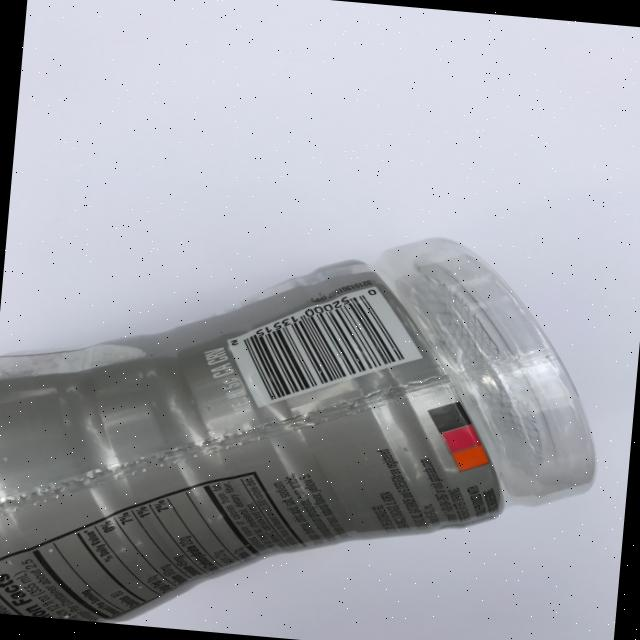plastic: (0, 197, 616, 640)
